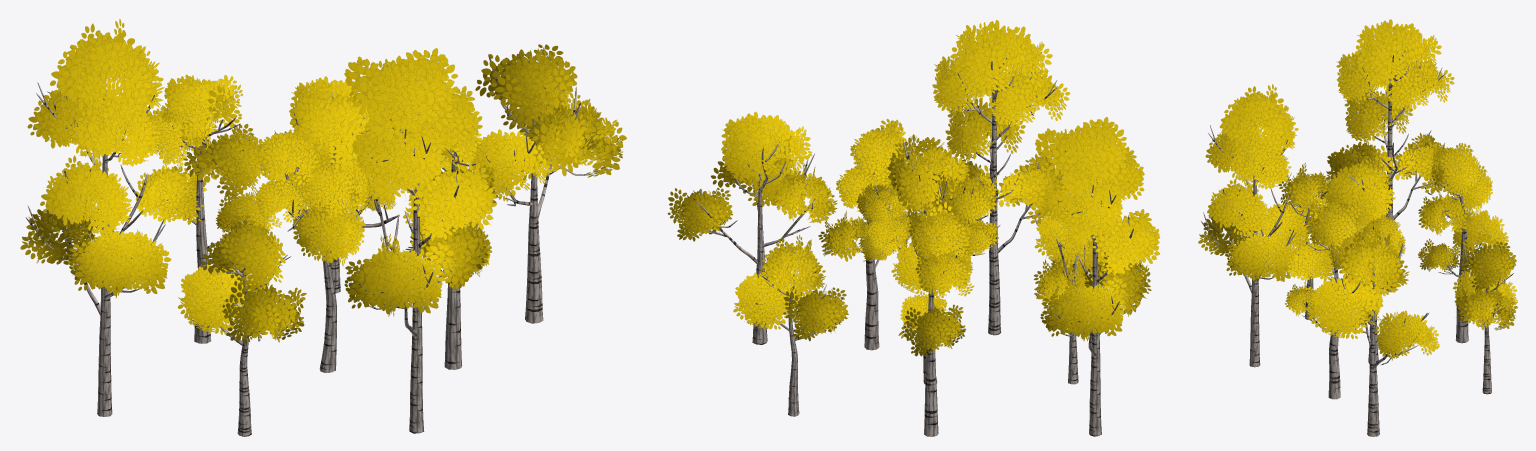
Rendered from Birch Trees.glb.
3 renders of one model, left to right at view 1: azimuth 30°, elevation 25°; view 2: azimuth 150°, elevation 25°; view 3: azimuth 270°, elevation 25°, orthographic. The views are drawn at different scales.
Visible parts, largest first — view 1: BirchTree_2, BirchTree_2.001, BirchTree_5, BirchTree_3, BirchTree_1, BirchTree_4.001, BirchTree_1.001, BirchTree_4; view 2: BirchTree_2.001, BirchTree_2, BirchTree_5, BirchTree_3, BirchTree_1, BirchTree_4, BirchTree_1.001, BirchTree_4.001; view 3: BirchTree_2, BirchTree_2.001, BirchTree_5, BirchTree_1, BirchTree_1.001, BirchTree_4, BirchTree_3, BirchTree_4.001.
Part boxes in pixels (bbox=[...]): BirchTree_2: bbox=[344, 48, 496, 433]; BirchTree_2.001: bbox=[20, 19, 171, 416]; BirchTree_5: bbox=[468, 44, 626, 323]; BirchTree_3: bbox=[255, 91, 401, 372]; BirchTree_1: bbox=[135, 74, 274, 343]; BirchTree_4.001: bbox=[178, 220, 306, 436]; BirchTree_1.001: bbox=[403, 130, 497, 369]; BirchTree_4: bbox=[273, 76, 361, 293]; BirchTree_2.001: bbox=[1035, 117, 1159, 436]; BirchTree_2: bbox=[926, 20, 1070, 335]; BirchTree_5: bbox=[667, 111, 837, 344]; BirchTree_3: bbox=[856, 134, 1000, 383]; BirchTree_1: bbox=[891, 200, 974, 436]; BirchTree_4: bbox=[733, 234, 848, 416]; BirchTree_1.001: bbox=[818, 119, 921, 350]; BirchTree_4.001: bbox=[1034, 211, 1107, 384]; BirchTree_2: bbox=[1198, 84, 1298, 367]; BirchTree_2.001: bbox=[1325, 19, 1454, 291]; BirchTree_5: bbox=[1308, 228, 1439, 436]; BirchTree_1: bbox=[1418, 143, 1508, 343]; BirchTree_1.001: bbox=[1285, 196, 1383, 399]; BirchTree_4: bbox=[1453, 241, 1517, 394]; BirchTree_3: bbox=[1326, 158, 1405, 363]; BirchTree_4.001: bbox=[1258, 163, 1338, 319].
Bounding box in the file's own units: 11.97 × 7.57 × 8.28.
Materials: 8 (8 with a texture image).
